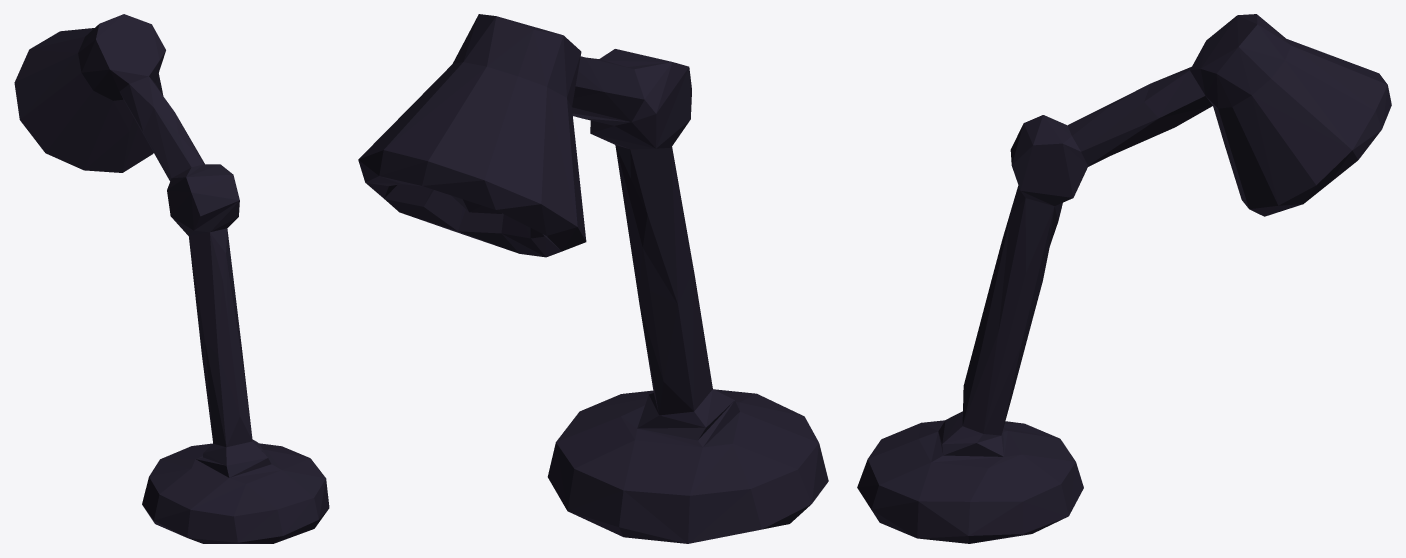
Rendered from Desk_Lamp_Outline.fbx.
3 views of the same model, side by side, from view 1: azimuth 30°, elevation 25°; view 2: azimuth 150°, elevation 25°; view 3: azimuth 270°, elevation 25° (orthographic). The views are drawn at different scales.
Visible parts, largest first — view 1: Desk_Lamp; view 2: Desk_Lamp; view 3: Desk_Lamp.
Part boxes in pixels (x1,y1,x2,y2): Desk_Lamp: (14, 14, 329, 543); Desk_Lamp: (358, 14, 828, 543); Desk_Lamp: (857, 14, 1391, 543).
Size of the model in its own units: 0.7849 by 1.83 by 1.85.
1 material, 1 textured.
